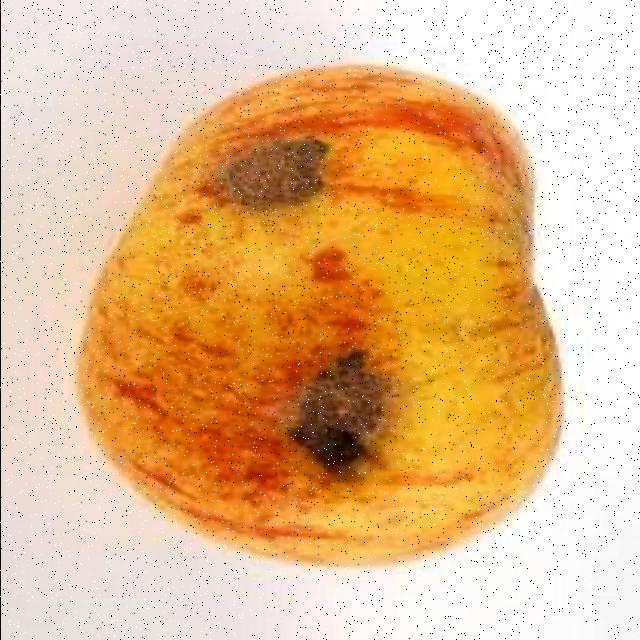SCAB: (51, 73, 568, 586)
